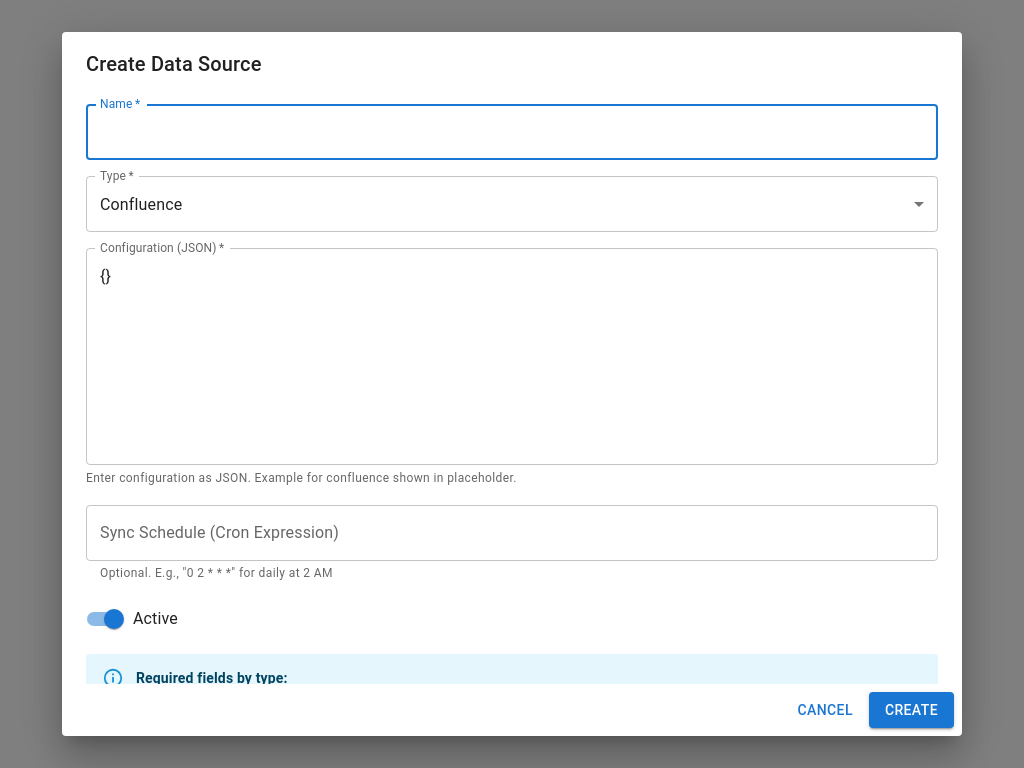
Test: DataSourceFormModal › should reject array as config
Type "Test Source" into the field labelled "Name *".
click(512, 132); type("Test Source")  # box [86,104,938,160]
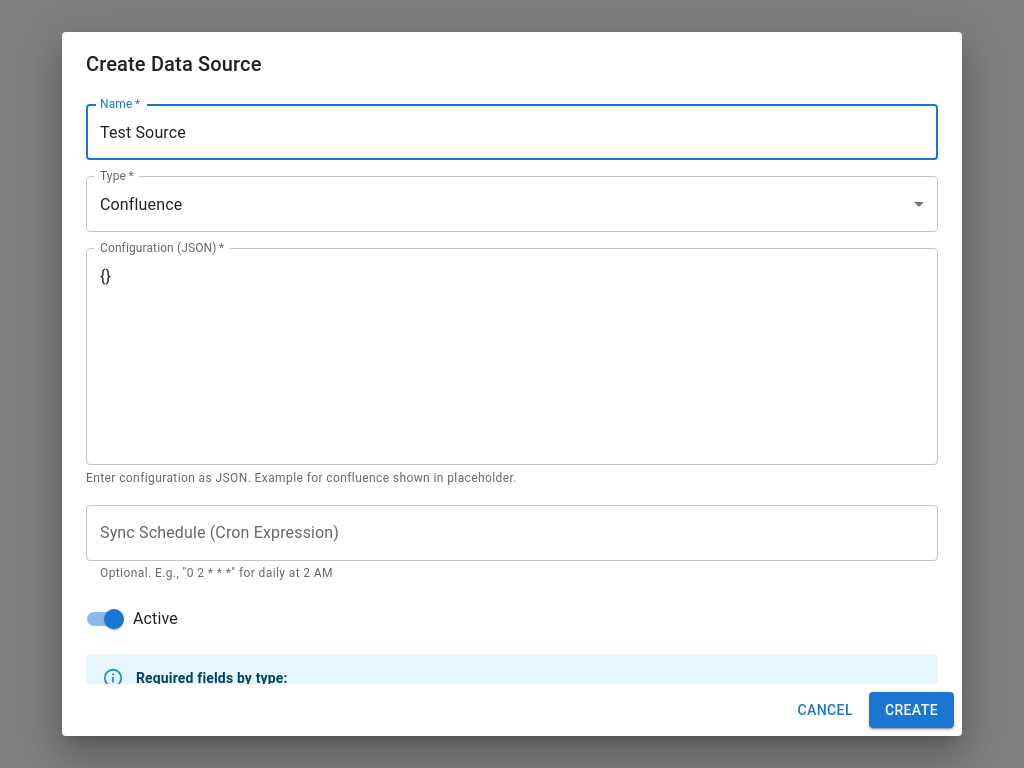
Clear the text box labelled "Configuration (JSON) *" at (512, 356), box [100,264,924,448]
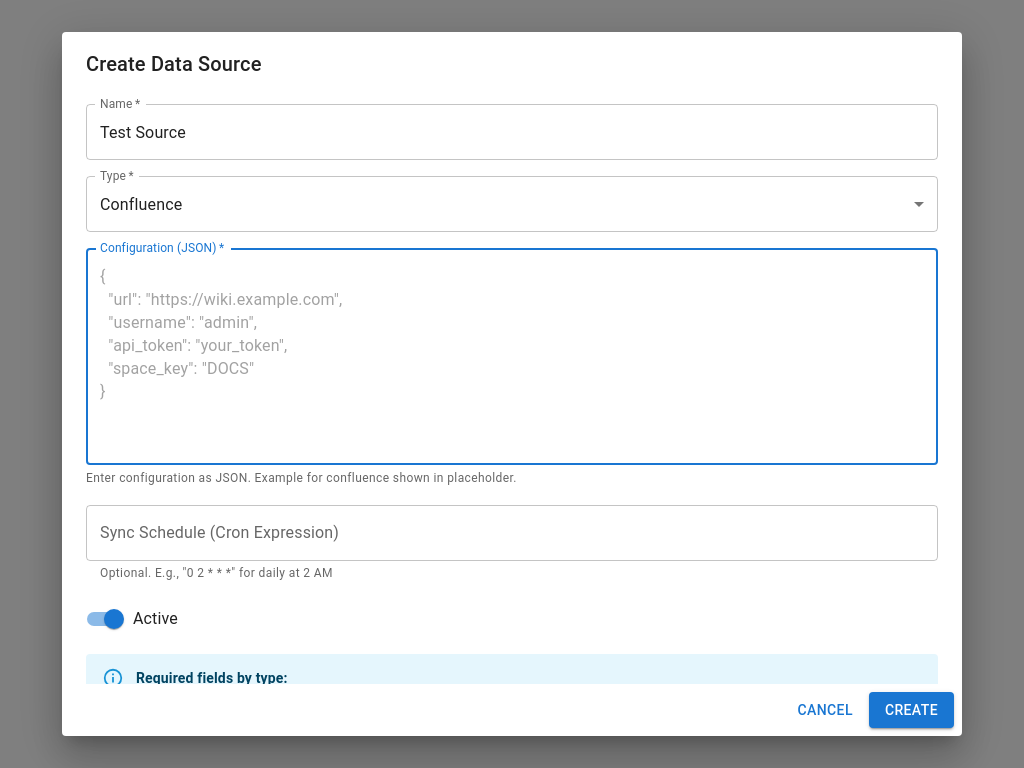
Type keys "[1, 2, 3]"
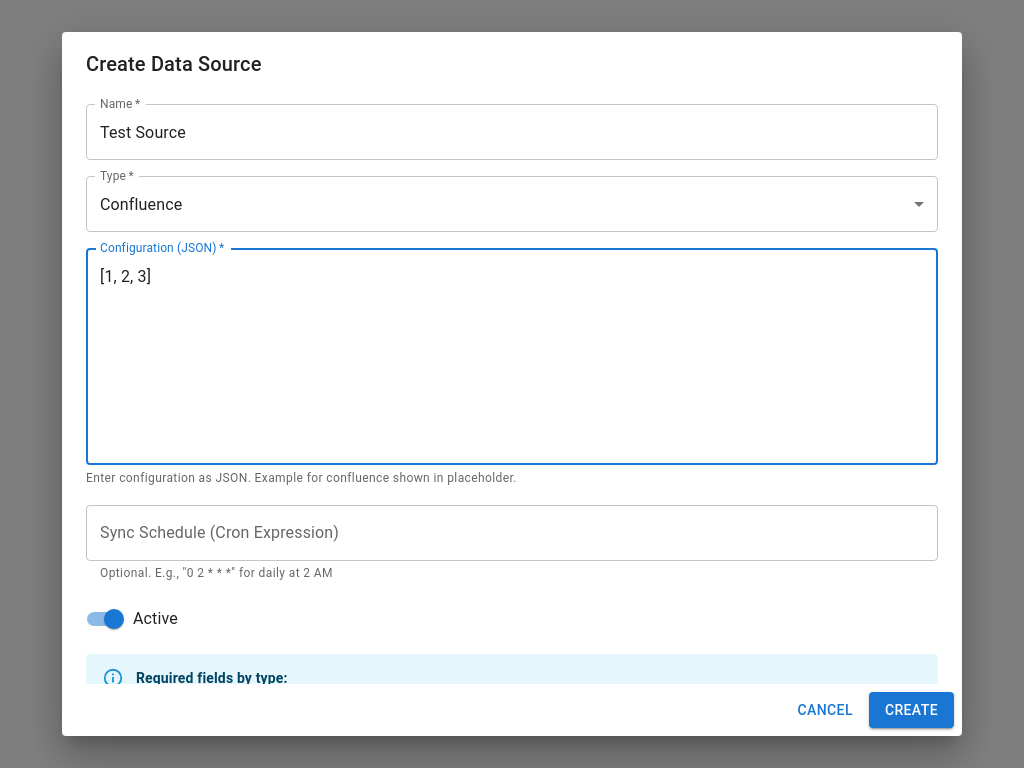
Click the button "Create".
click(911, 710)  # box [869,692,954,728]
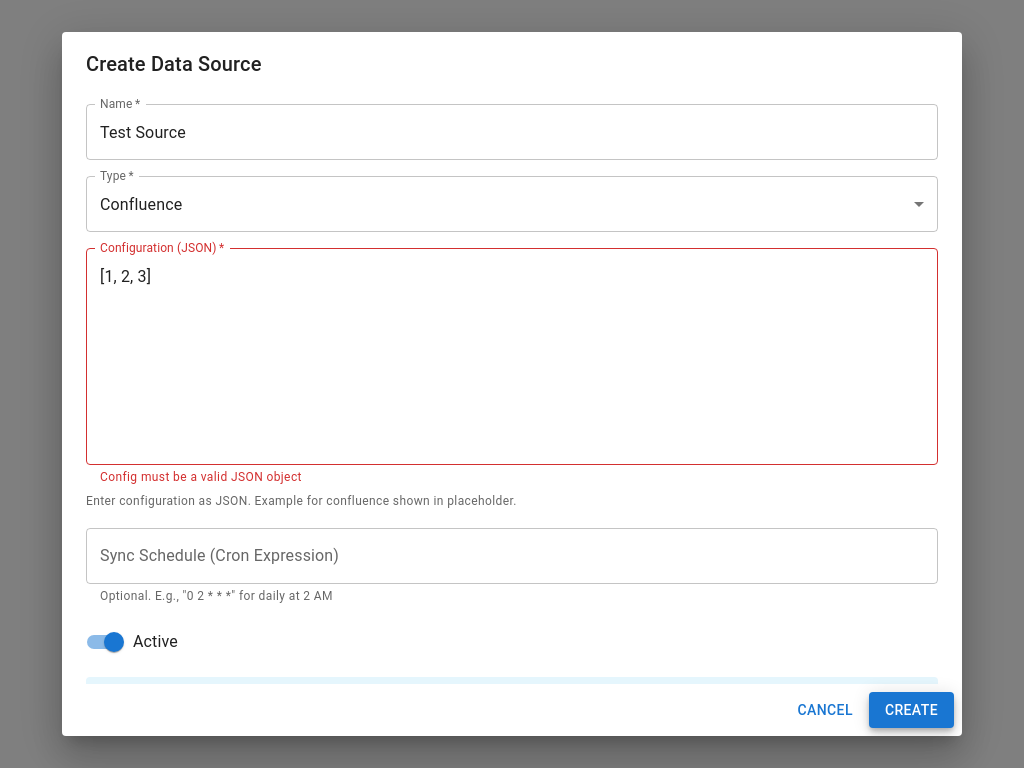
expect the text "Config must be a valid JSON object" is shown: met, box [100,470,302,484]
